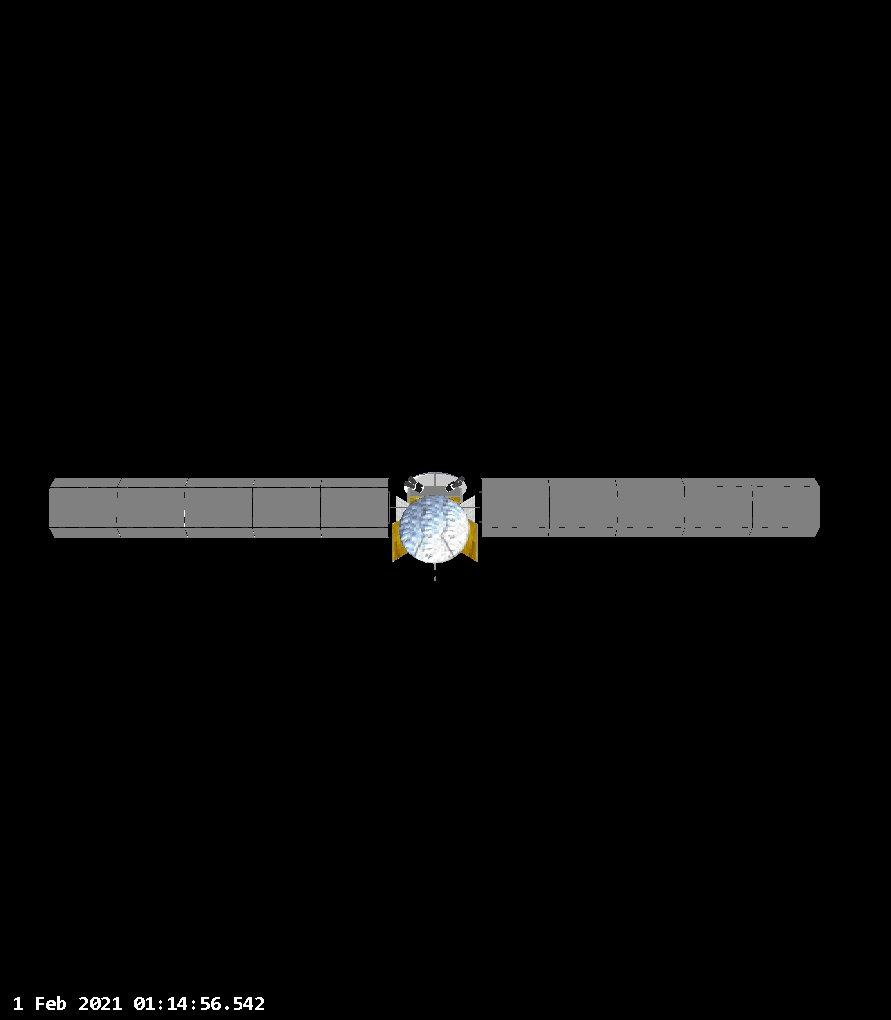antenna: (398, 495, 471, 564), (403, 471, 468, 496)
body: (406, 485, 463, 508)
solar: (478, 471, 825, 541), (45, 472, 394, 541)
thruster: (454, 475, 466, 484), (403, 480, 416, 488), (407, 475, 417, 485), (452, 479, 462, 488)
